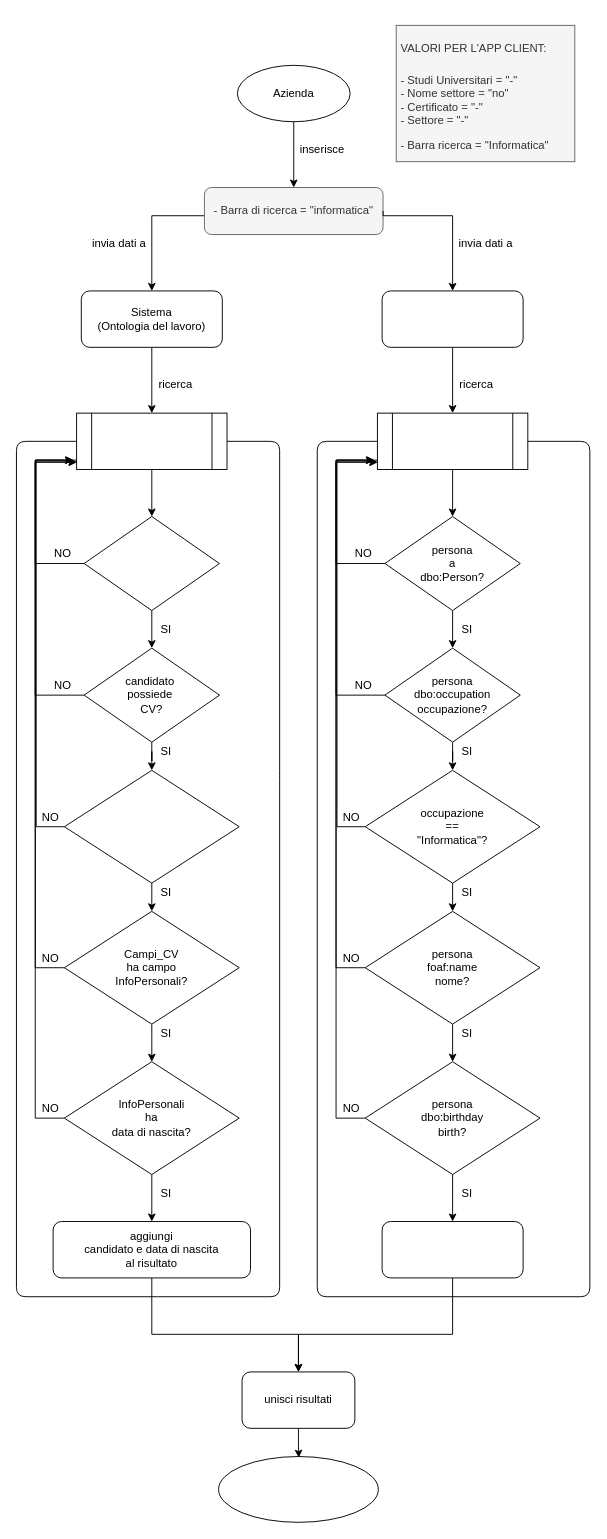
The diagram is 607 pixels wide and 1539 high, and some of its shapes have lost their labels. Here are the shapes that lost their labels. From the top down, the centre of each, then its label:
(452,318): Sistema (dbpedia.org)
(151,441): per ogni candidato nell'ontologia
(452,441): per ogni persona nell'ontologia
(151,563): candidato ha settore di interesse "informatica"?
(151,826): CV contiene Campi_CV?
(452,1249): aggiungi name e birth al risultato
(298,1489): mostra il risultato finale all'utente
